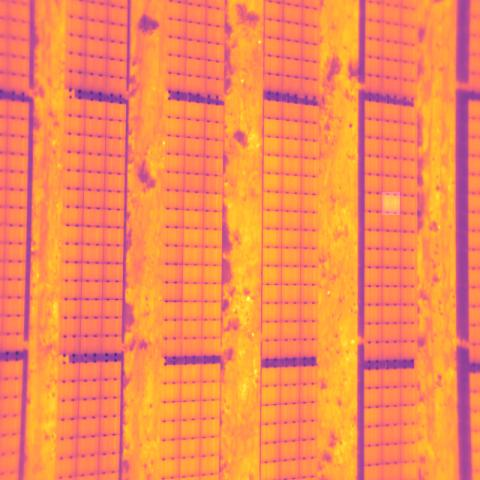fault: (382, 192, 400, 215)
